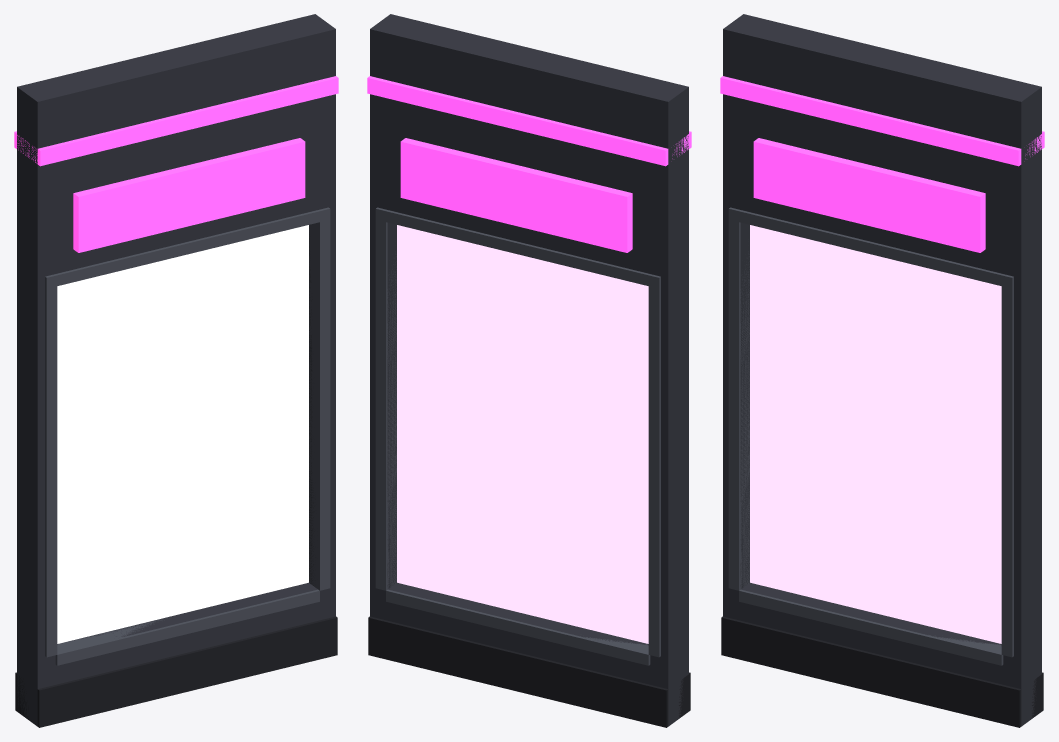
The model's file is cyb-vitrine-rosa.gltf.
3 views of the same model, side by side, from view 1: azimuth 30°, elevation 25°; view 2: azimuth 150°, elevation 25°; view 3: azimuth 330°, elevation 25° (orthographic).
Visible parts, largest first — view 1: cyb-vitrine-rosa; view 2: cyb-vitrine-rosa; view 3: cyb-vitrine-rosa.
Boxes of the visible parts, bbox=[...] form: cyb-vitrine-rosa: bbox=[14, 14, 338, 727]; cyb-vitrine-rosa: bbox=[367, 14, 691, 727]; cyb-vitrine-rosa: bbox=[720, 14, 1044, 727].
Size of the model in its own units: 1 by 2 by 0.18.
